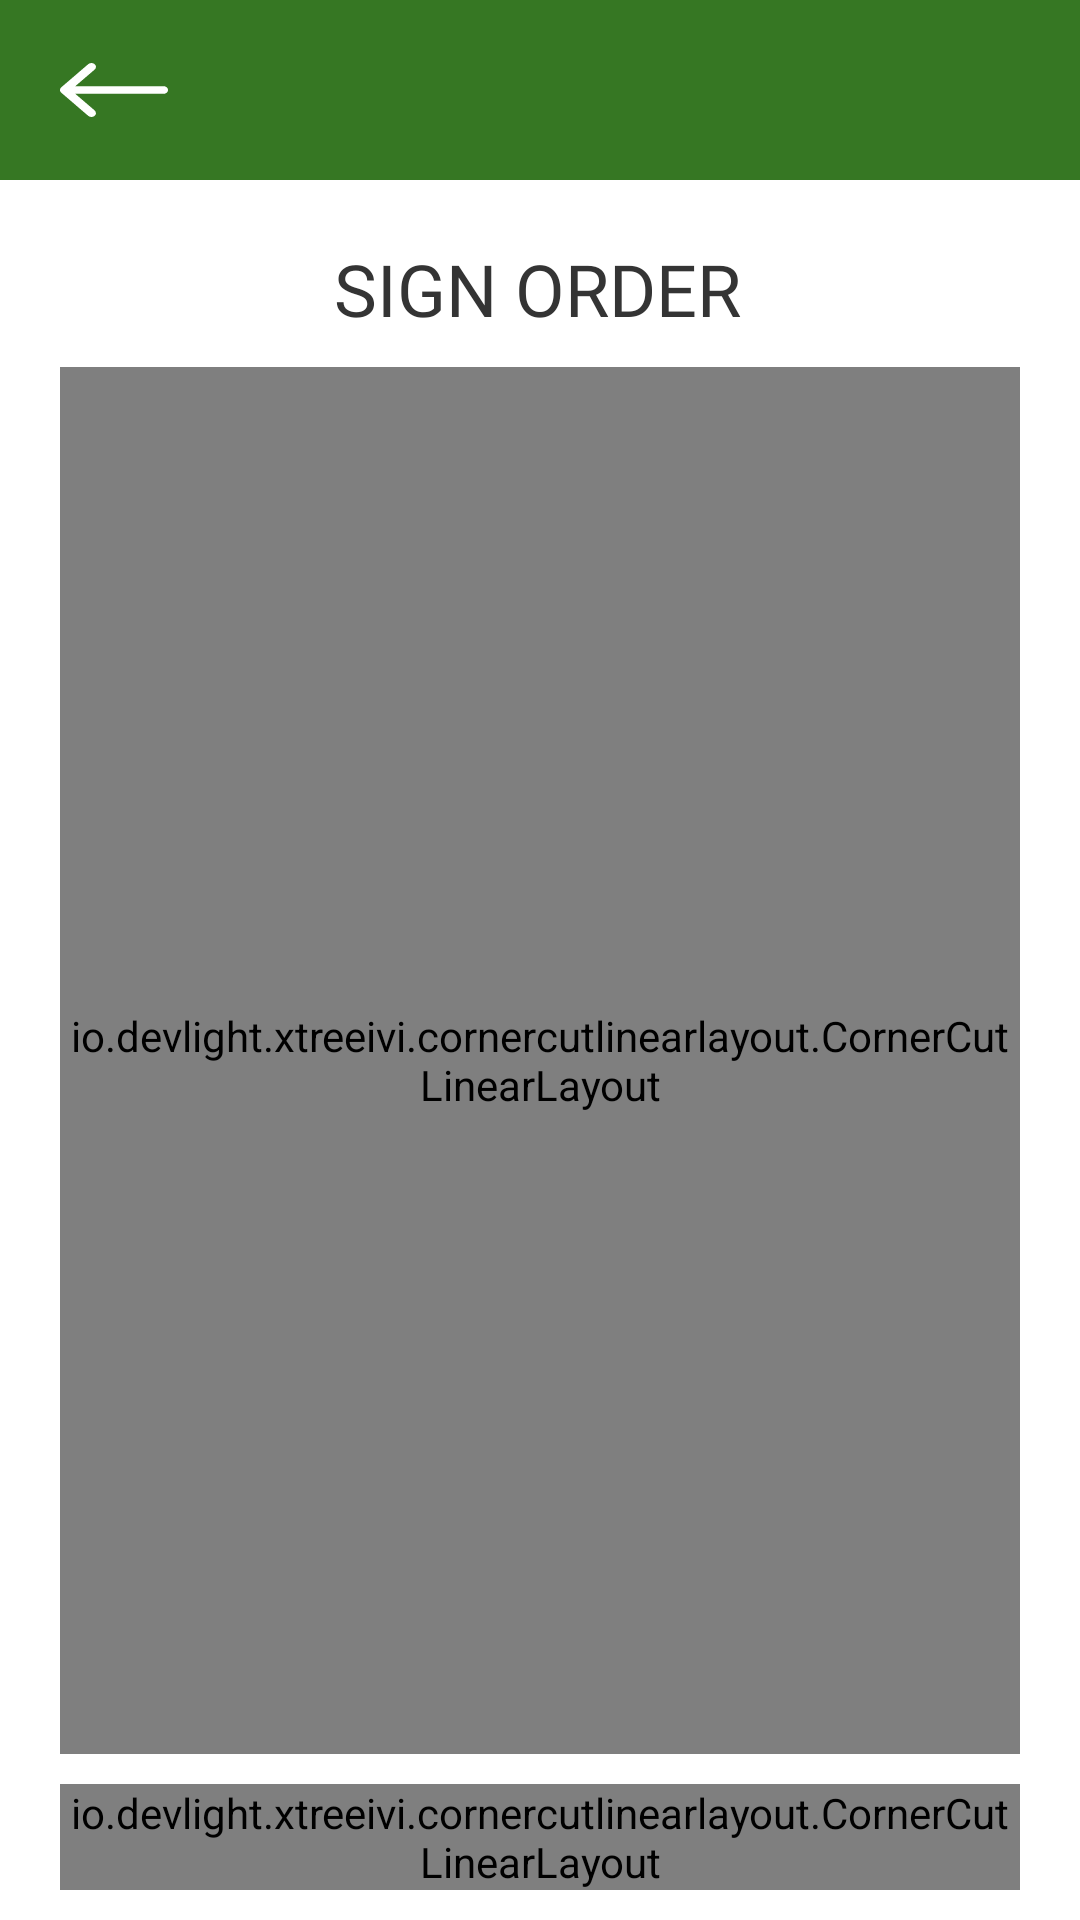

Screen size 1080px×1920px. Icon name, then its center in pixels as [x,y]:
arrow: [114,90]
